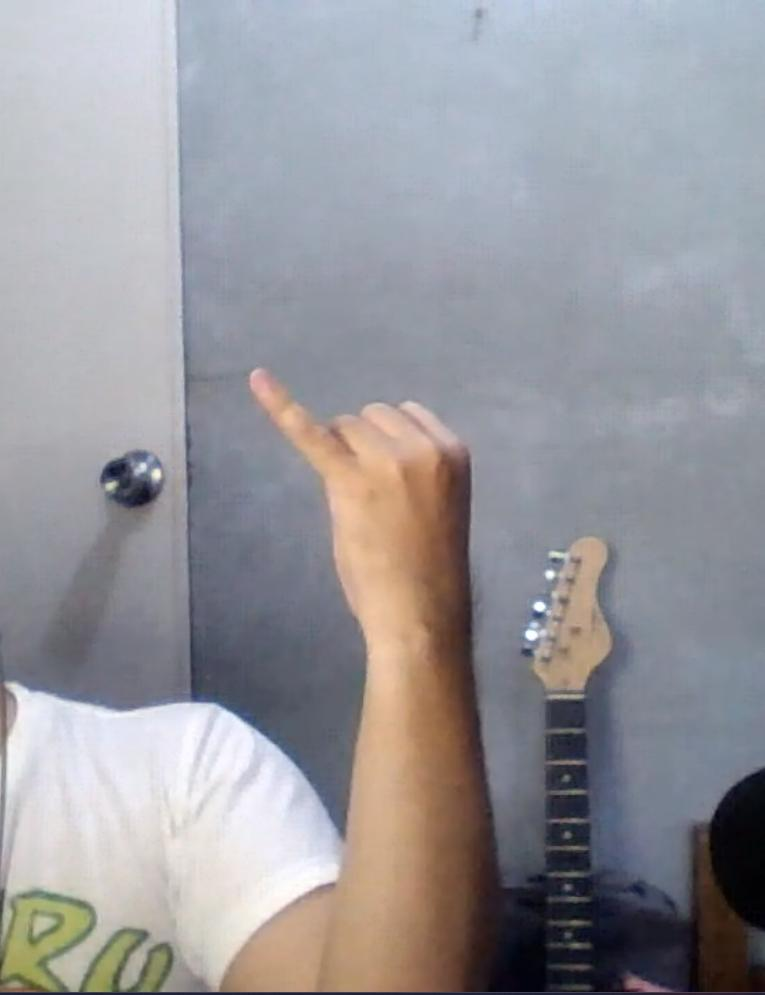j: (241, 361, 473, 599)
